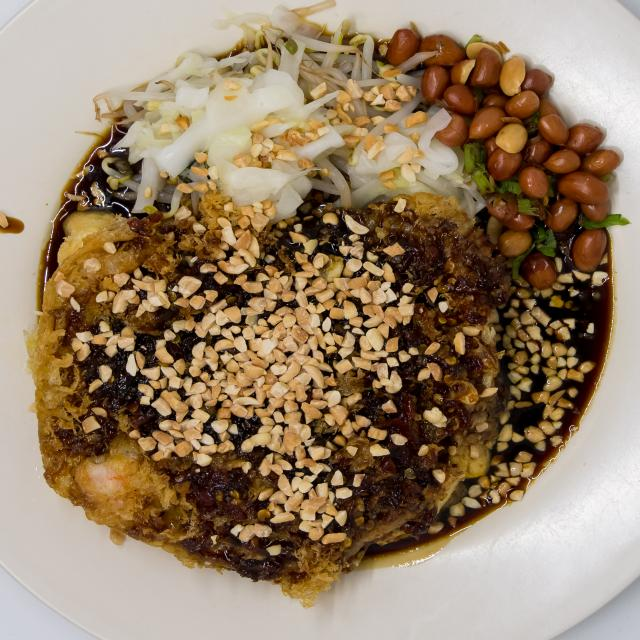Tahu-Telur: (42, 8, 614, 595)
